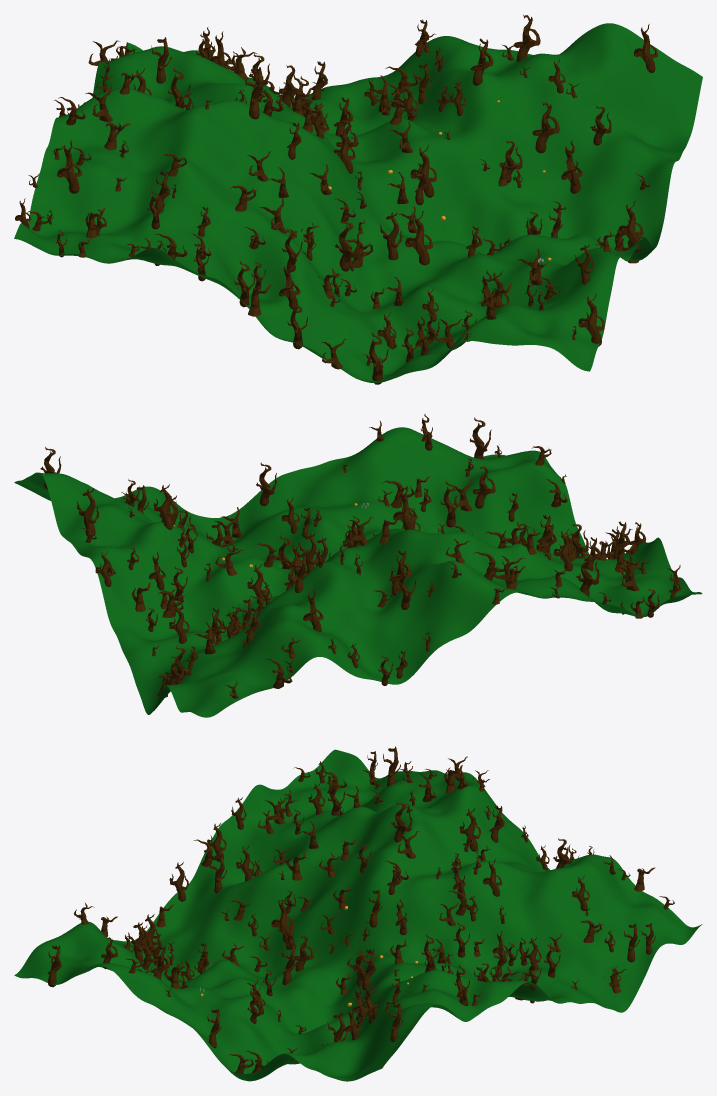
File: outdoor_scene.glb
The picture shows the model from 3 angles, top to bottom: view 1: azimuth 30°, elevation 25°; view 2: azimuth 150°, elevation 25°; view 3: azimuth 270°, elevation 25°; orthographic projection. The views are drawn at different scales.
Parts seen in each view (by area): view 1: Hills, GN Instance (×3); view 2: Hills; view 3: Hills.
Boxes of the visible parts, <box> form: Hills: <box>14,23,702,383</box>; GN Instance (×3): <box>405,102,604,346</box>; Hills: <box>14,427,702,717</box>; Hills: <box>14,749,702,1081</box>.
Bounding box in the file's own units: 403 × 110 × 403.
